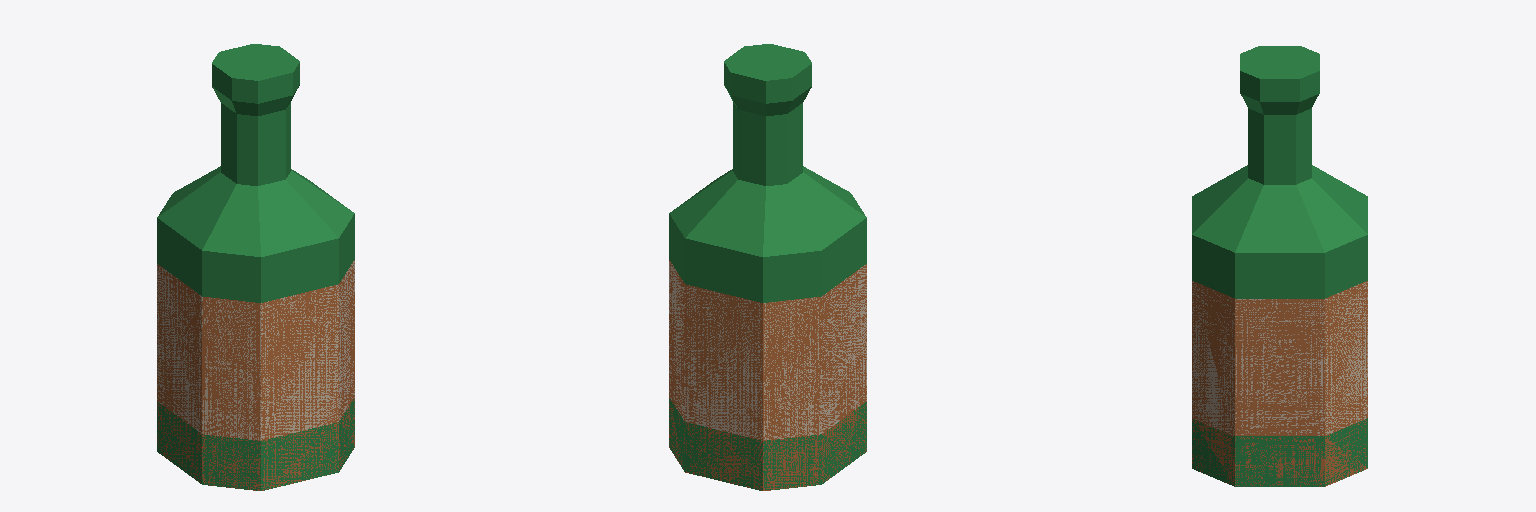
The model's file is bottle.obj.
3 renders of one model, left to right at view 1: azimuth 30°, elevation 25°; view 2: azimuth 150°, elevation 25°; view 3: azimuth 270°, elevation 25°, orthographic.
Visible parts, largest first — view 1: bottle; view 2: bottle; view 3: bottle.
Boxes of the visible parts, x1,y1,x2,y2 form: bottle: [157, 44, 354, 490]; bottle: [669, 44, 866, 490]; bottle: [1192, 46, 1367, 486].
Bounding box in the file's own units: 1.74 × 4.22 × 1.74.